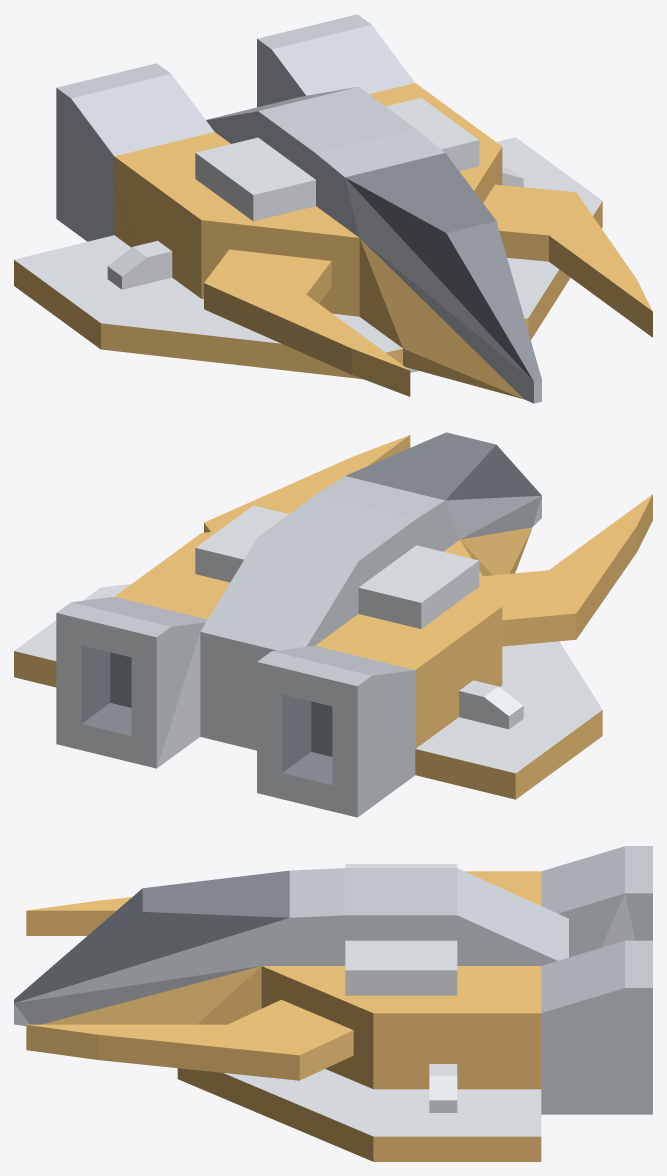
File: craft_spiked.fbx
The picture shows the model from 3 angles, top to bottom: view 1: azimuth 30°, elevation 25°; view 2: azimuth 150°, elevation 25°; view 3: azimuth 270°, elevation 25°; orthographic projection. The views are drawn at different scales.
Visible parts, largest first — view 1: craft_speederB; view 2: craft_speederB; view 3: craft_speederB.
Part boxes in pixels (x1,y1,x2,y2): craft_speederB: (14, 14, 652, 403); craft_speederB: (14, 432, 652, 817); craft_speederB: (14, 846, 652, 1161).
Bounding box in the file's own units: 200 × 60 × 229.
